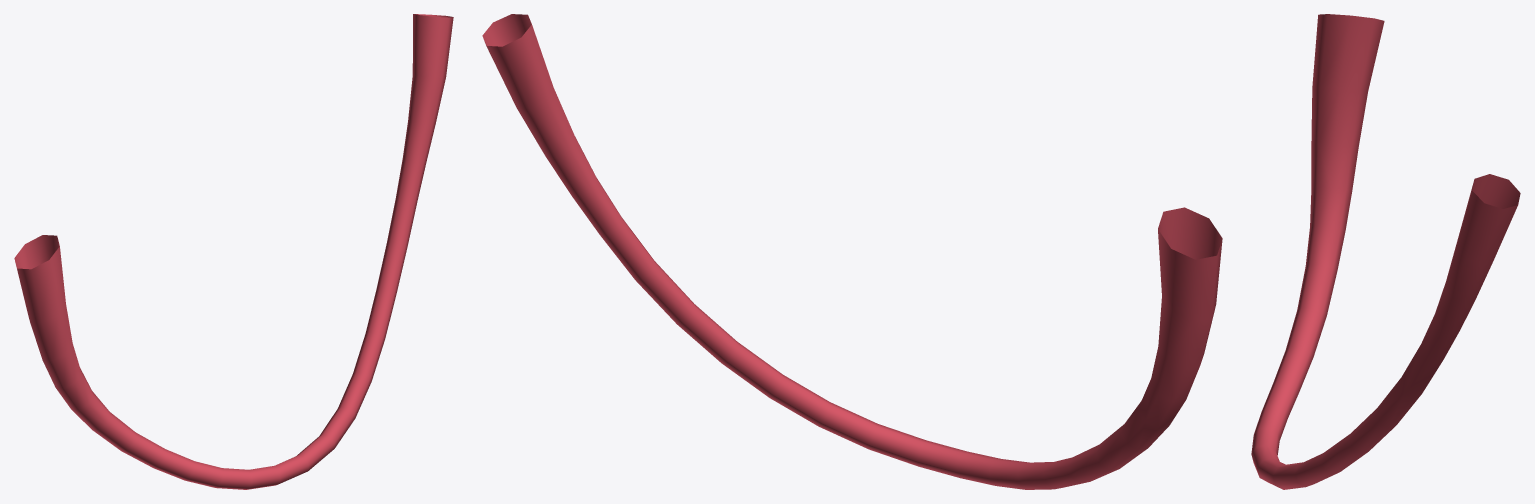
Rendered from liane08.fbx.
The picture shows the model from 3 angles, left to right: view 1: azimuth 30°, elevation 25°; view 2: azimuth 150°, elevation 25°; view 3: azimuth 270°, elevation 25°; orthographic projection. The views are drawn at different scales.
Visible parts, largest first — view 1: liane08_LOD0; view 2: liane08_LOD0; view 3: liane08_LOD0.
Boxes of the visible parts, x1,y1,x2,y2 form: liane08_LOD0: (14,14,453,489); liane08_LOD0: (482,14,1222,489); liane08_LOD0: (1251,14,1520,489).
Size of what is drawn, in the model's own units: 711 by 482 by 268.
